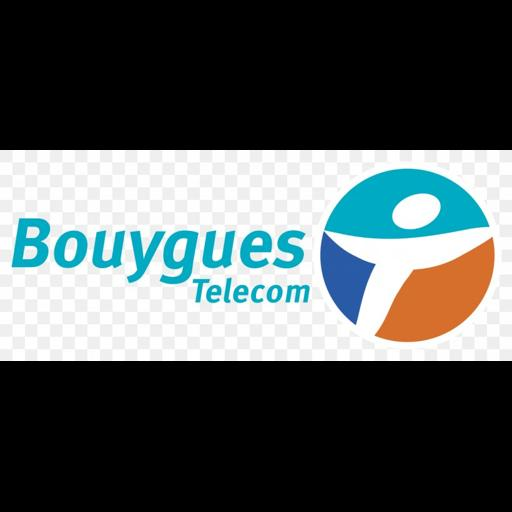Bouygues Telecom: (0, 150, 512, 361)
